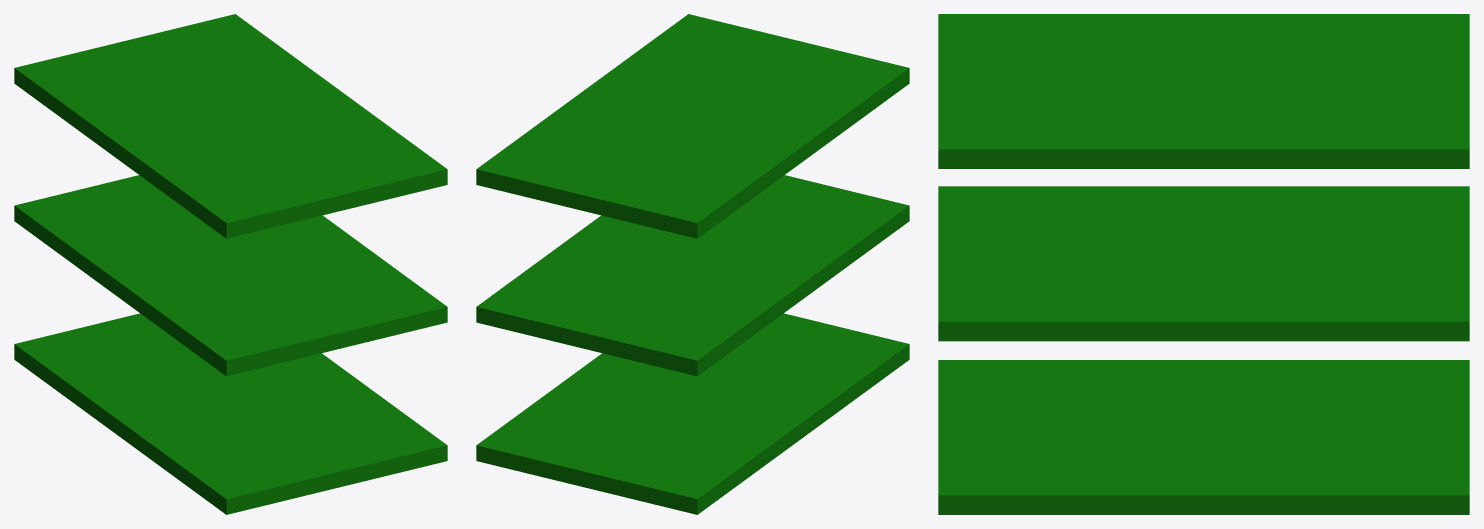
File: estantespared.fbx
The picture shows the model from 3 angles, left to right: view 1: azimuth 30°, elevation 25°; view 2: azimuth 150°, elevation 25°; view 3: azimuth 270°, elevation 25°; orthographic projection. The views are drawn at different scales.
Parts seen in each view (by area): view 1: Cubo.010, Cubo.012, Cubo.014; view 2: Cubo.010, Cubo.012, Cubo.014; view 3: Cubo.014, Cubo.010, Cubo.012.
Boxes of the visible parts, x1,y1,x2,y2 form: Cubo.010: [14, 14, 447, 238]; Cubo.012: [14, 313, 447, 514]; Cubo.014: [14, 175, 447, 376]; Cubo.010: [476, 14, 909, 238]; Cubo.012: [476, 313, 909, 514]; Cubo.014: [476, 175, 909, 376]; Cubo.014: [938, 186, 1469, 341]; Cubo.010: [938, 14, 1469, 168]; Cubo.012: [938, 360, 1469, 514].
Bounding box in the file's own units: 221 × 278 × 366.
